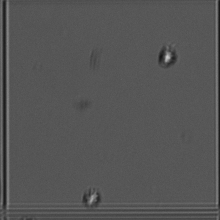Living Cell: (155, 42, 181, 68), (79, 185, 104, 207)
